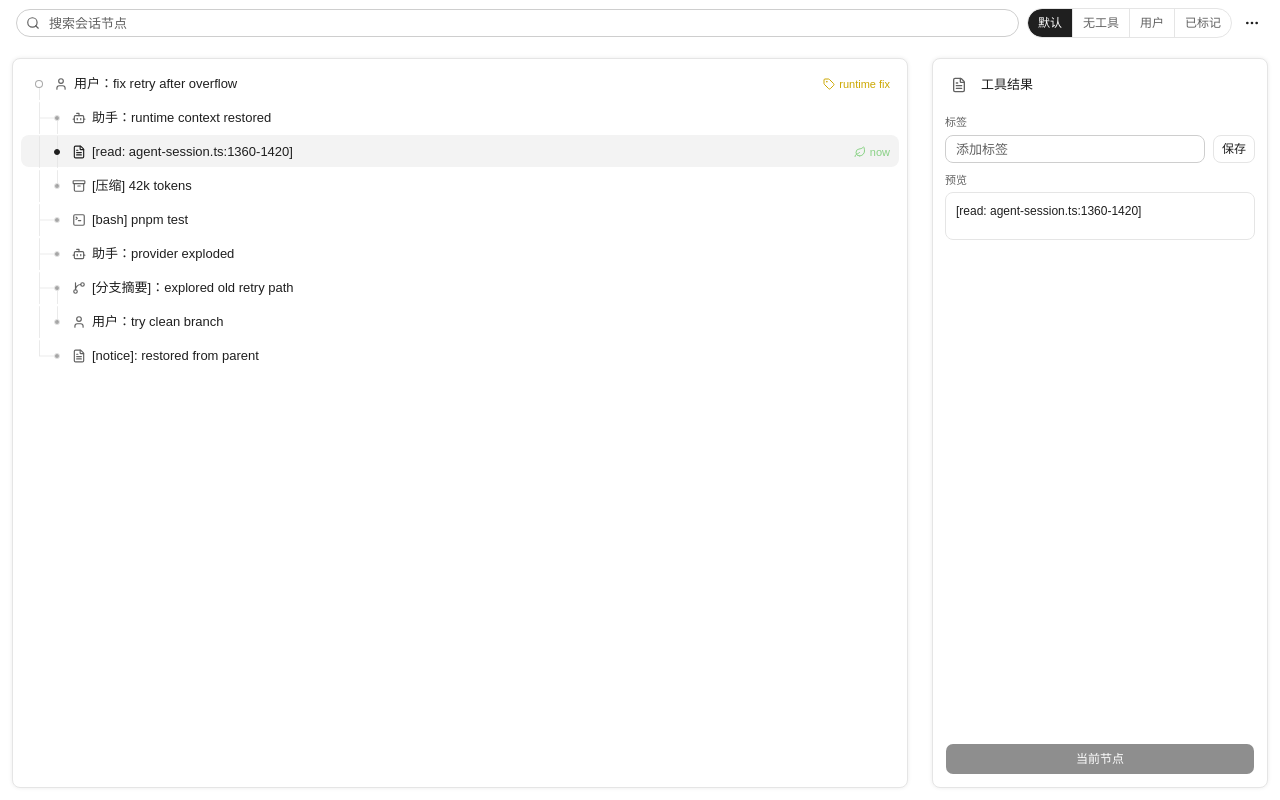
TreeApp › does not silently retarget navigation when filtering hides the selected node
The width and height of the screenshot is (1280, 800).
Type "pnpm test" into the field labelled "搜索会话节点".
click(517, 23); type("pnpm test")  # box [16, 9, 1019, 37]
Wait 160 ms
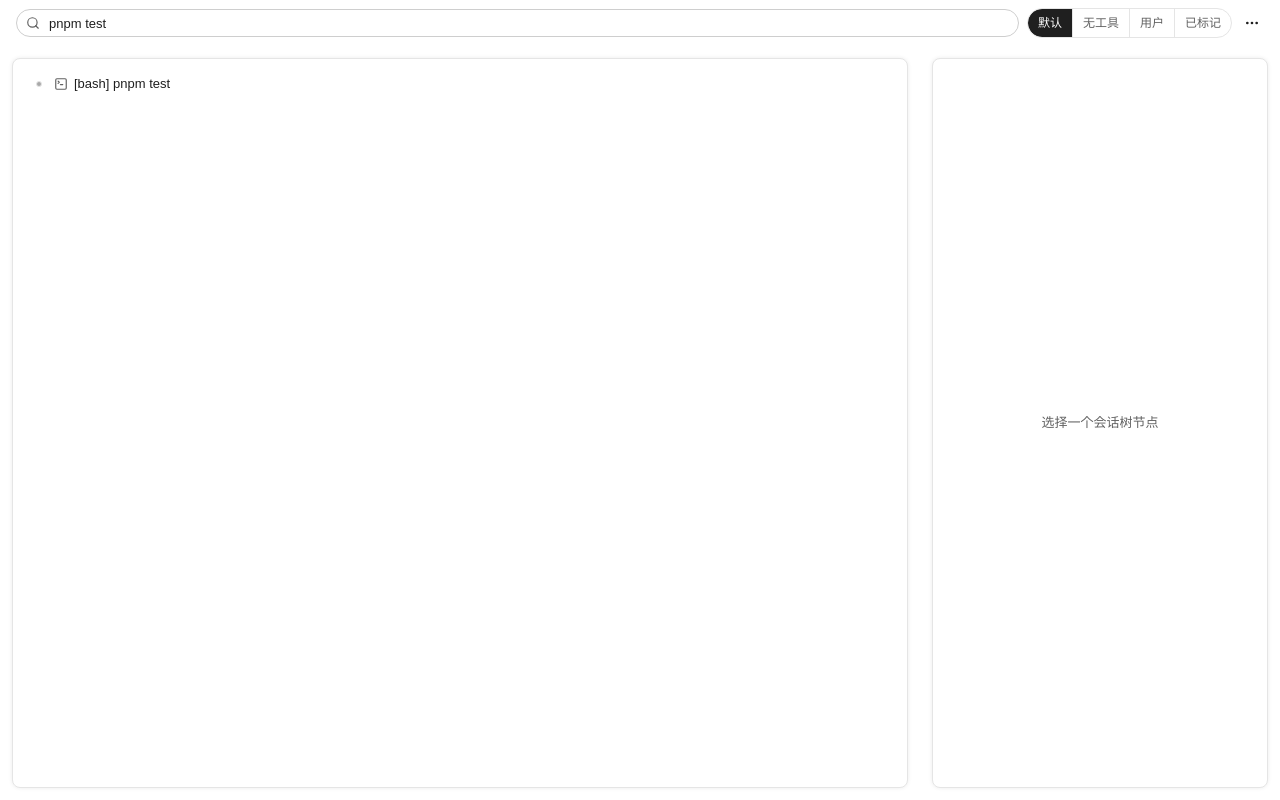
Expected: the text "[bash] pnpm test" is shown, [74, 76, 170, 91]
Expected: the button "切换到此节点" is not shown
Click the list item.
click(103, 84)  # box [36, 76, 170, 91]
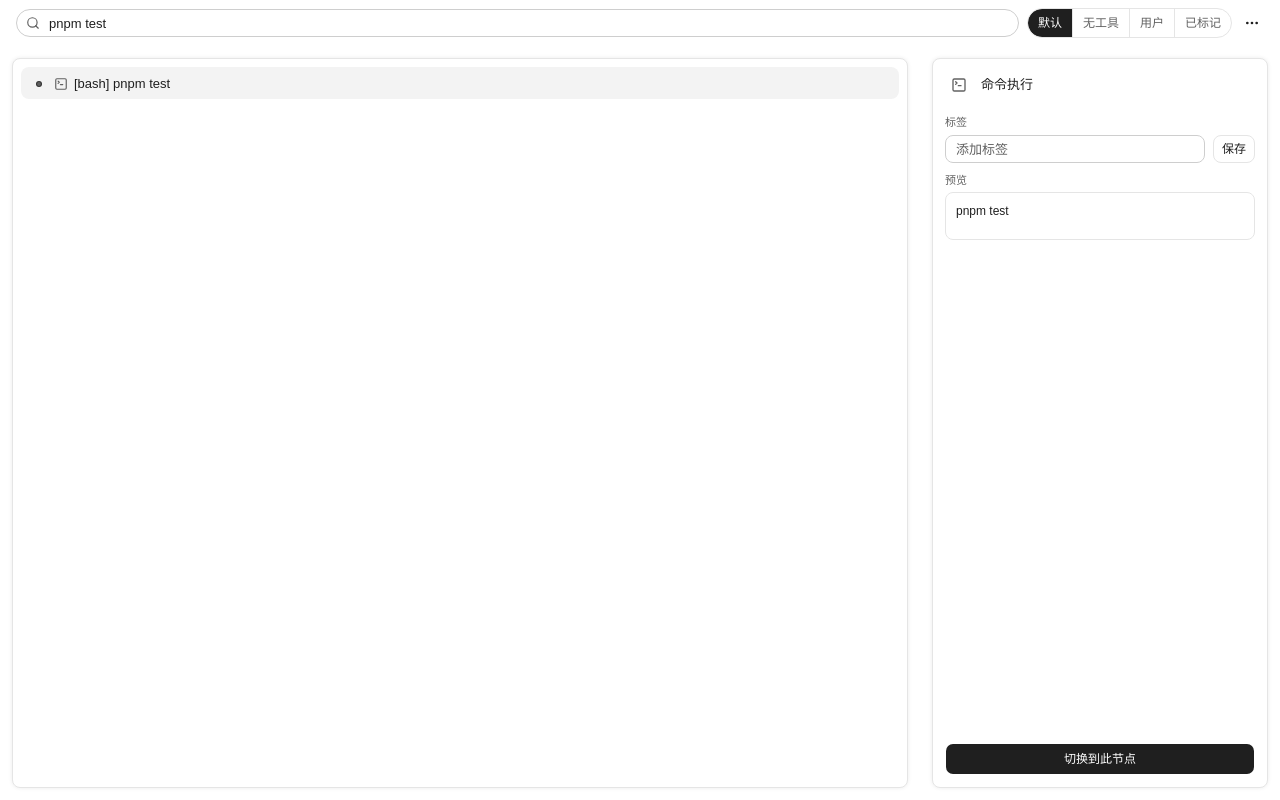
Expected: the button "切换到此节点" is shown, [945, 743, 1255, 775]
